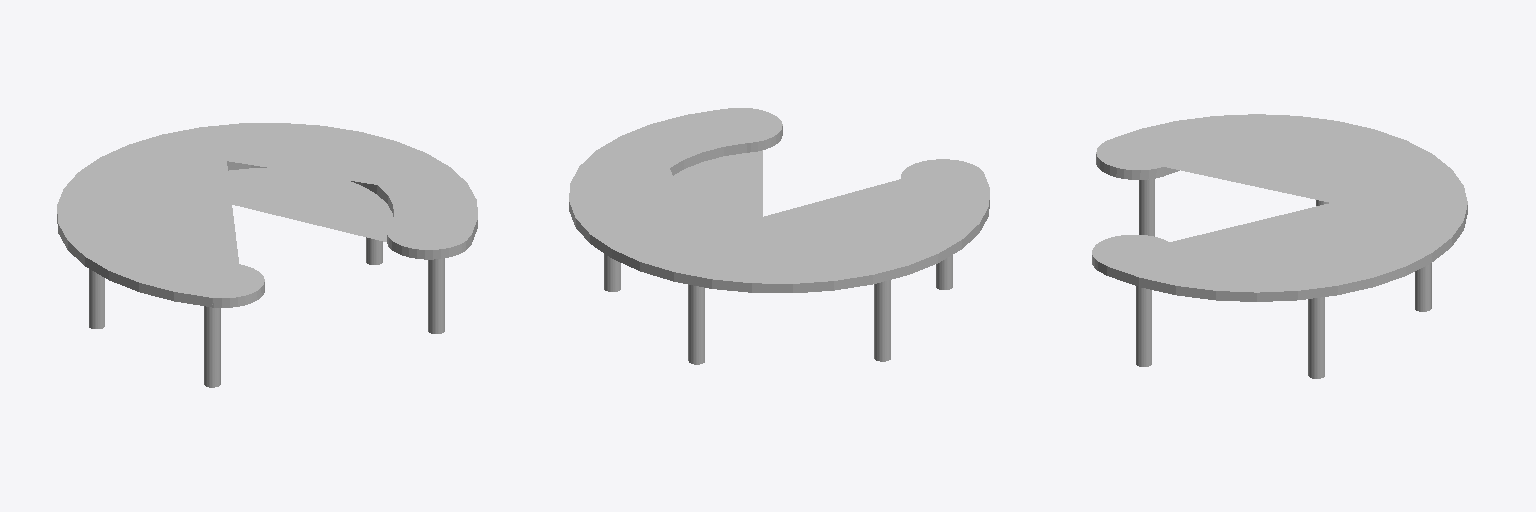
File: firstWorkTable.obj
3 views of the same model, side by side, from view 1: azimuth 30°, elevation 25°; view 2: azimuth 150°, elevation 25°; view 3: azimuth 270°, elevation 25° (orthographic).
Parts seen in each view (by area): view 1: Cylinder.006; view 2: Cylinder.006; view 3: Cylinder.006.
Part boxes in pixels (bbox=[...]): Cylinder.006: bbox=[57, 123, 477, 387]; Cylinder.006: bbox=[569, 108, 989, 364]; Cylinder.006: bbox=[1092, 114, 1467, 378].
Bounding box in the file's own units: 1200 × 330 × 1068.